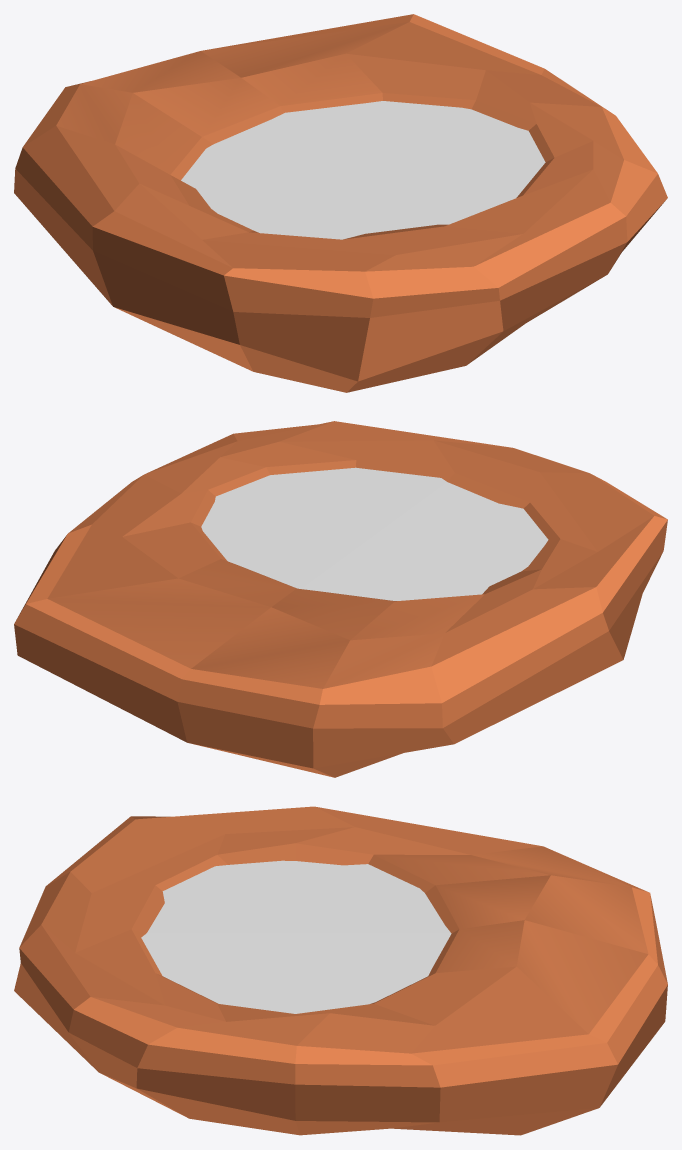
File: Island001.fbx
3 views of the same model, one above another, from view 1: azimuth 30°, elevation 25°; view 2: azimuth 150°, elevation 25°; view 3: azimuth 270°, elevation 25° (orthographic). The views are drawn at different scales.
Visible parts, largest first — view 1: Plane.004, Plane.005; view 2: Plane.004, Plane.005; view 3: Plane.004, Plane.005.
Boxes of the visible parts, x1,y1,x2,y2 form: Plane.004: (14,14,667,392); Plane.005: (181,101,545,239); Plane.004: (14,421,667,777); Plane.005: (201,467,548,600); Plane.004: (14,806,667,1135); Plane.005: (141,860,451,1013).
Size of the model in its own units: 1361 by 448 by 1495.
